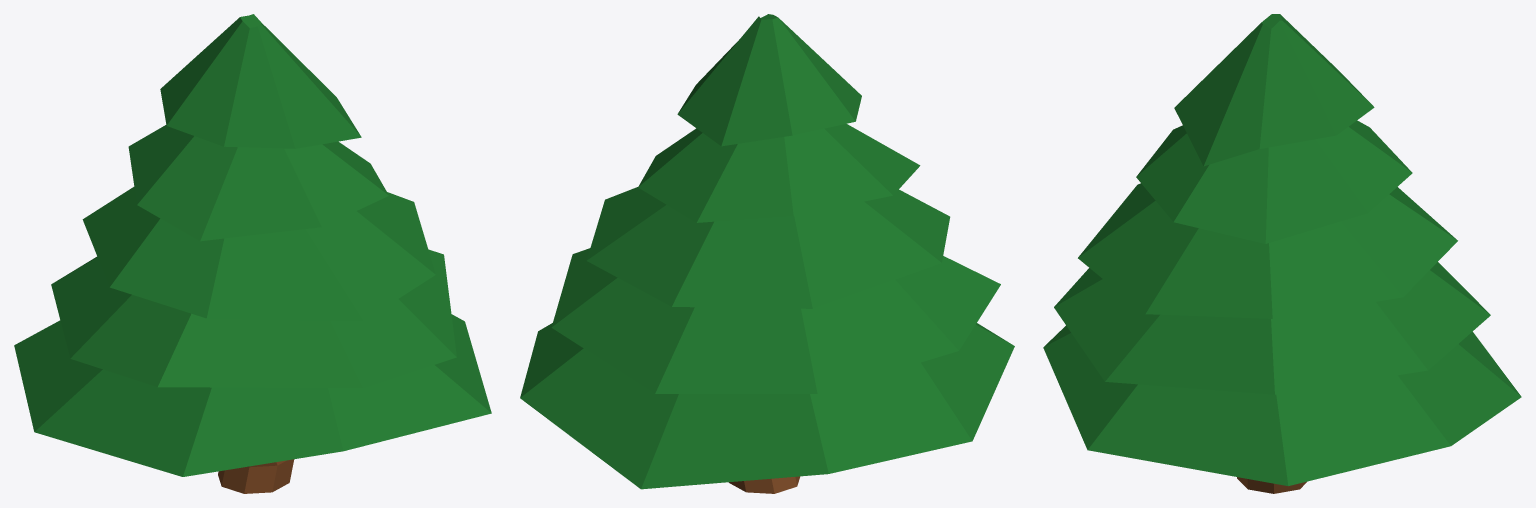
File: smreka.glb
3 views of the same model, side by side, from view 1: azimuth 30°, elevation 25°; view 2: azimuth 150°, elevation 25°; view 3: azimuth 270°, elevation 25° (orthographic).
Visible parts, largest first — view 1: Cylinder; view 2: Cylinder; view 3: Cylinder.
Boxes of the visible parts, left/top/right/bottom form: Cylinder: left=14, top=14, right=491, bottom=493; Cylinder: left=520, top=14, right=1014, bottom=493; Cylinder: left=1043, top=14, right=1521, bottom=493.
Bounding box in the file's own units: 8.21 × 8.4 × 7.93.
